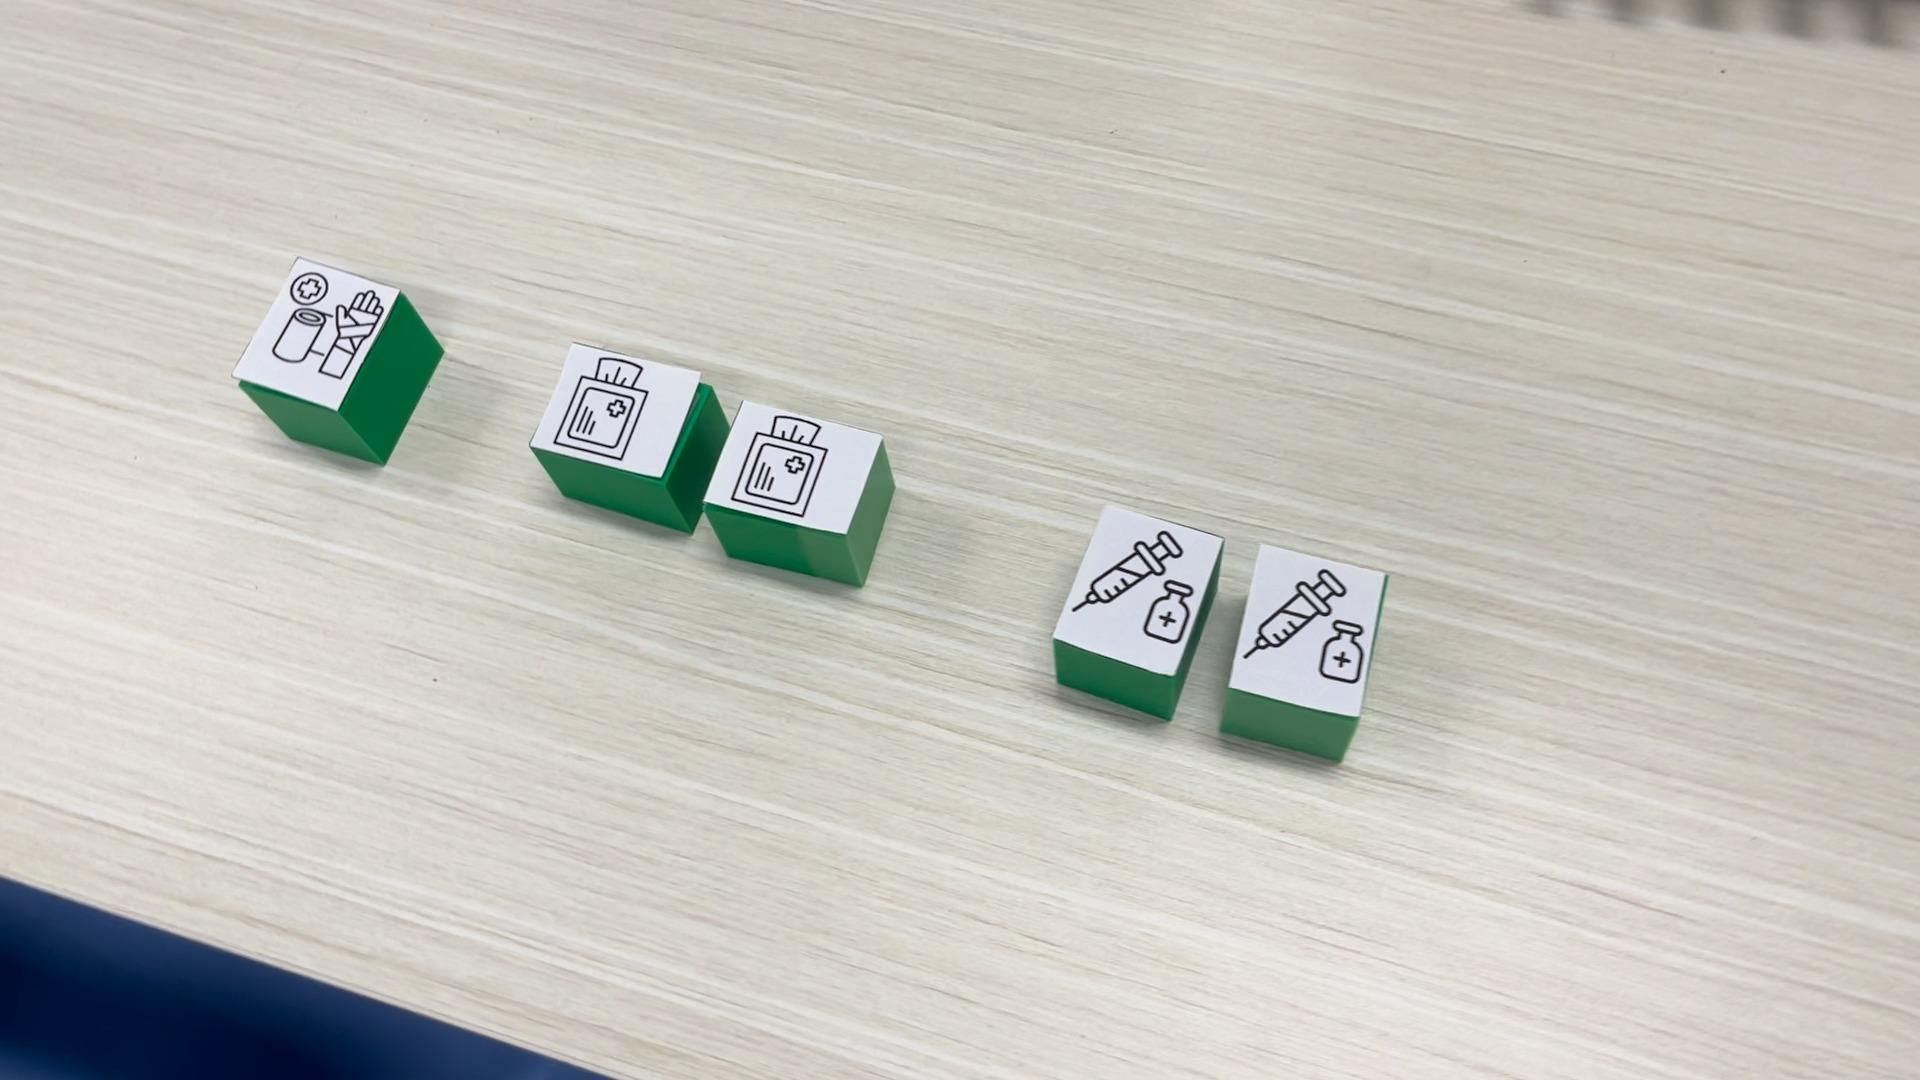Bandages: (232, 256, 444, 465)
Gauze: (529, 340, 729, 537), (703, 398, 898, 591)
antiseptic cream: (1048, 501, 1226, 723), (1220, 542, 1391, 764)
